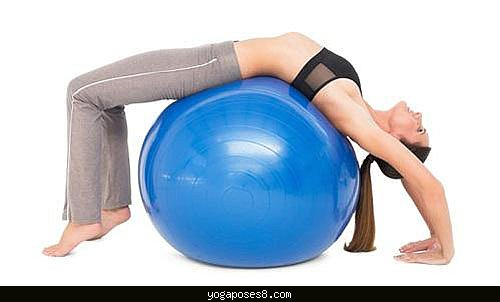yogaball: (138, 75, 360, 273)
